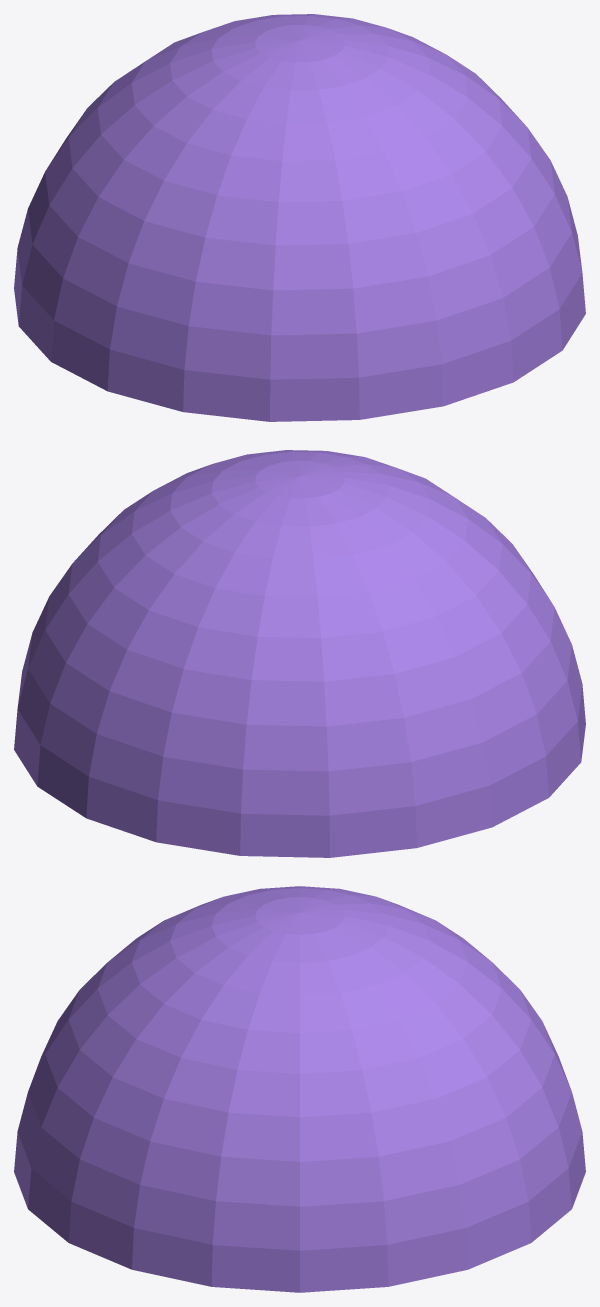
File: Domo.obj
The picture shows the model from 3 angles, top to bottom: view 1: azimuth 30°, elevation 25°; view 2: azimuth 150°, elevation 25°; view 3: azimuth 270°, elevation 25°; orthographic projection.
Visible parts, largest first — view 1: pSphere1; view 2: pSphere1; view 3: pSphere1.
Boxes of the visible parts, left/top/right/bottom form: pSphere1: left=14, top=14, right=585, bottom=421; pSphere1: left=14, top=450, right=585, bottom=857; pSphere1: left=14, top=886, right=585, bottom=1292.
Size of the model in its own units: 16.71 by 8.36 by 16.71.
Materials: 1 (1 with a texture image).
